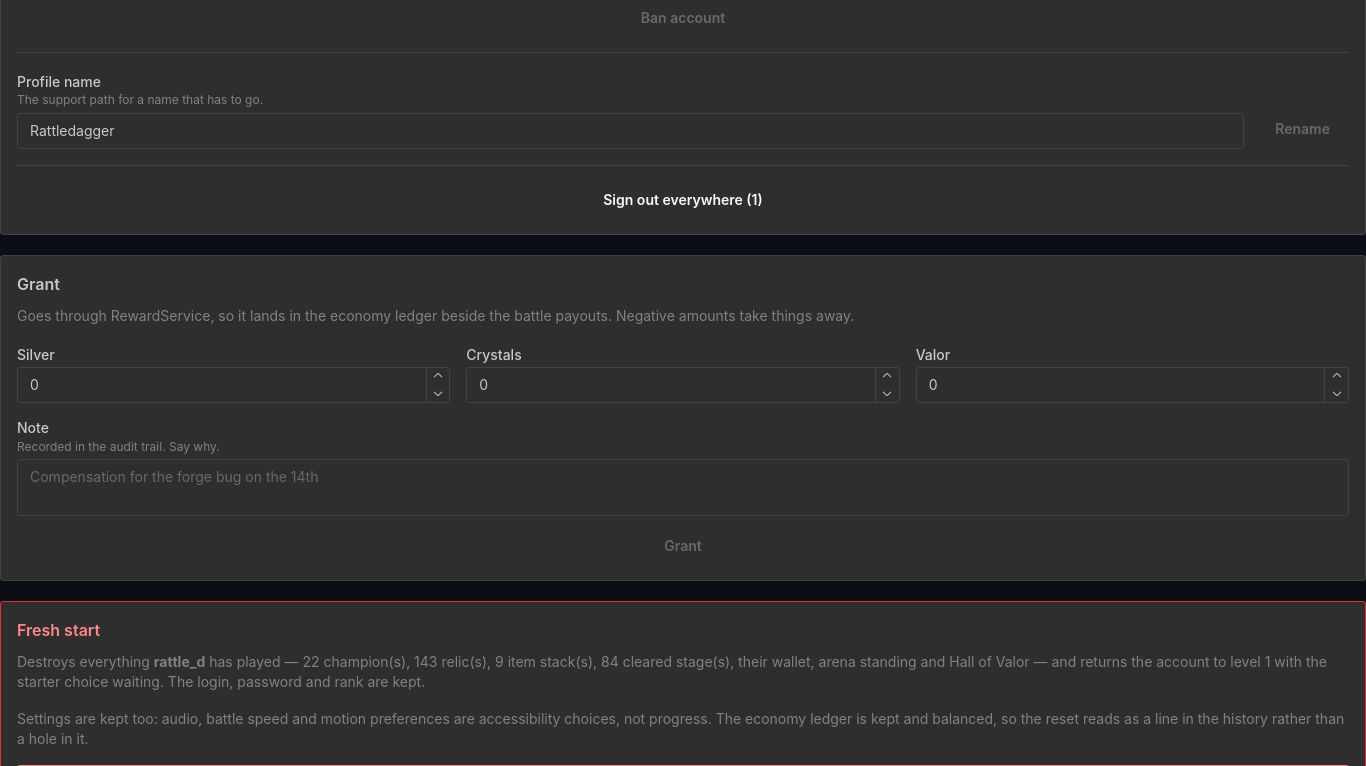
Test: player actions › refuses a grant with no note and no amount
(page scrolled)
Expected: the button "Grant" is disabled, [17,528,1349,564]
// An amount alone is not enough — the audit trail wants a reason.
Replace the text in the field labelled "Silver" with "5000" at (234, 385), box [17,367,450,403]
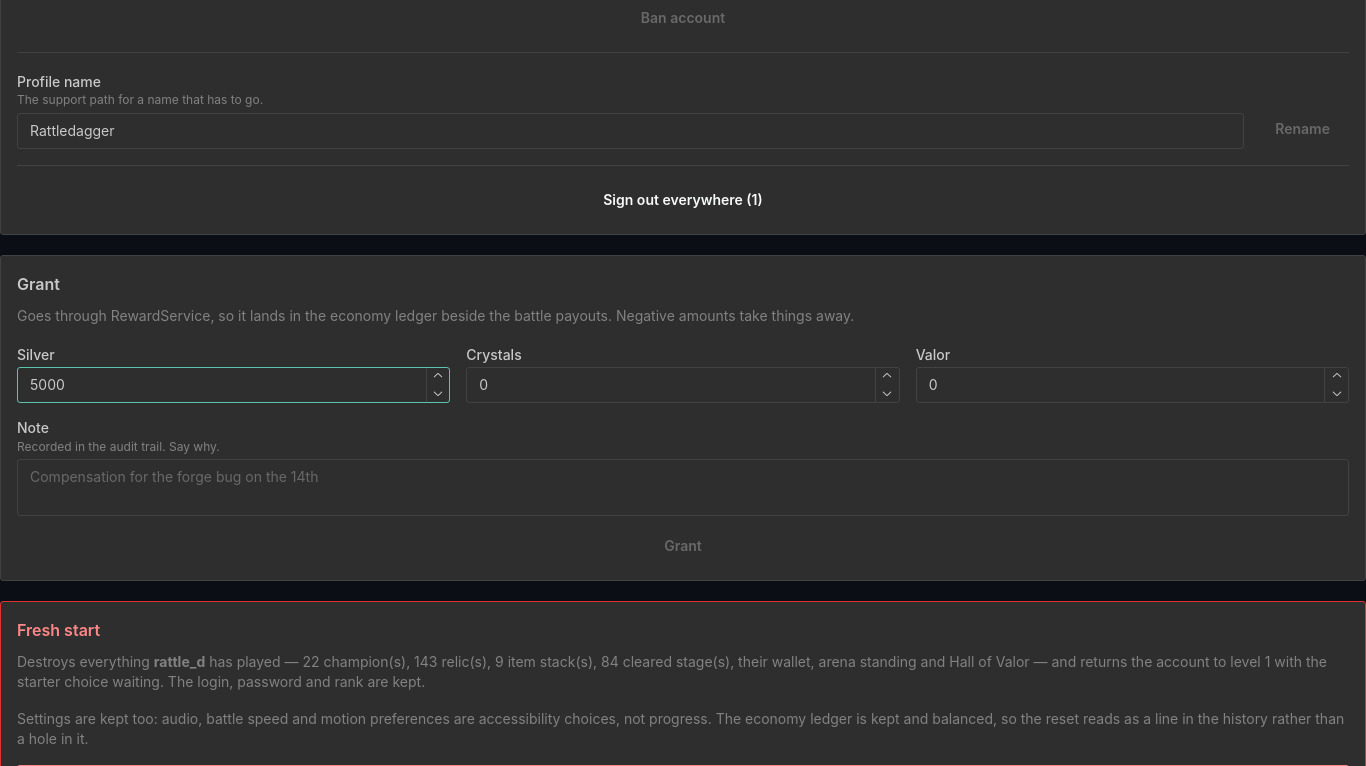
Expected: the button "Grant" is disabled, [17,528,1349,564]
Type "forge bug compensation" into the text box labelled "Note" at (683, 488), box [17,459,1349,516]
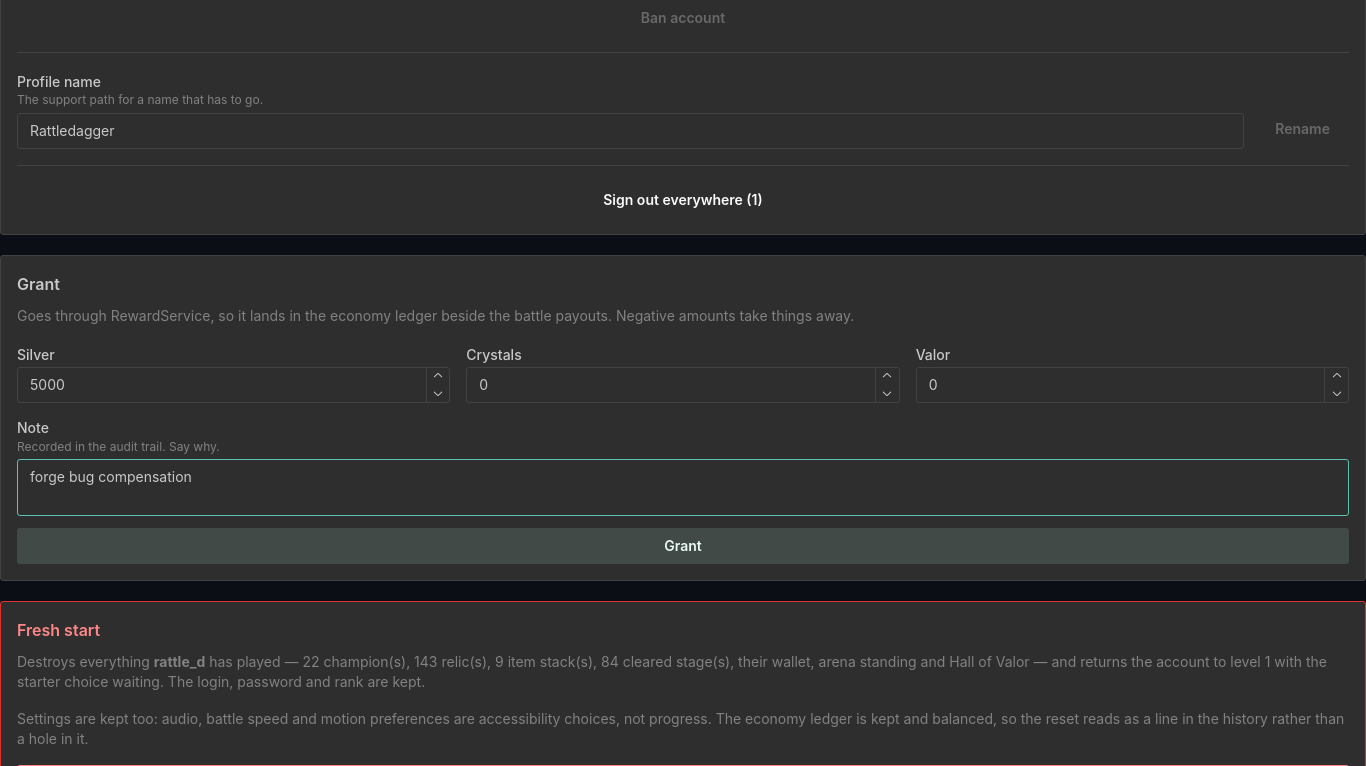
Expected: the button "Grant" is enabled, [17,528,1349,564]
